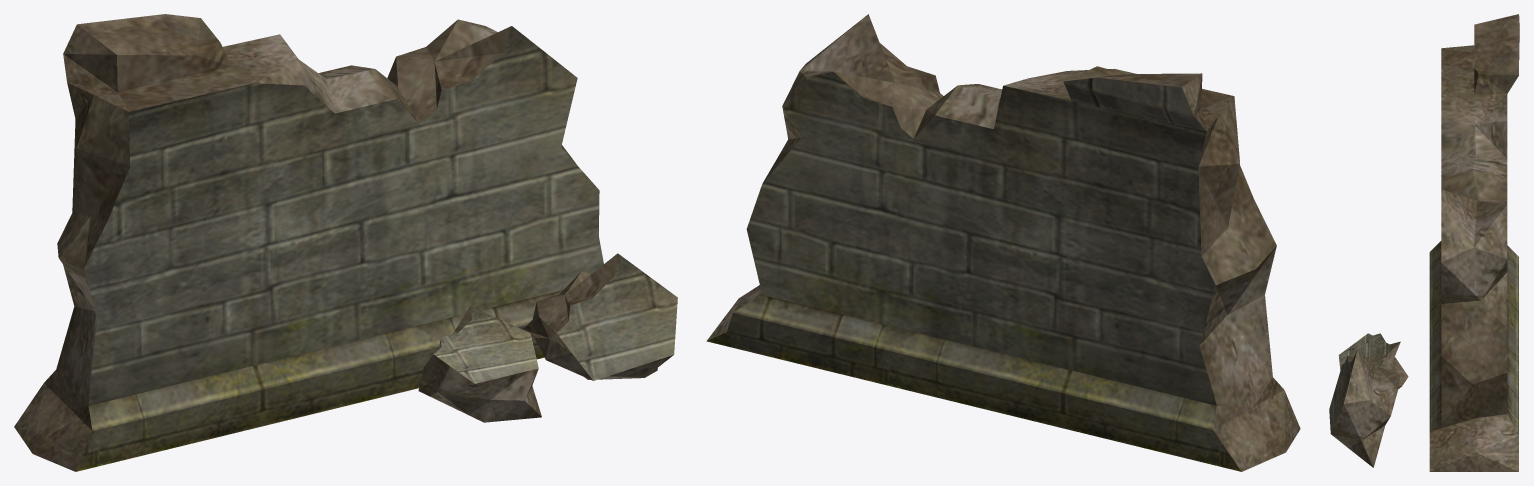
Rendered from zshh_poqiang_07.FBX.
3 views of the same model, side by side, from view 1: azimuth 30°, elevation 25°; view 2: azimuth 150°, elevation 25°; view 3: azimuth 270°, elevation 25° (orthographic). The views are drawn at different scales.
Parts seen in each view (by area): view 1: zshh_poqiang_07; view 2: zshh_poqiang_07; view 3: zshh_poqiang_07.
Boxes of the visible parts, <box> form: zshh_poqiang_07: <box>14,14,677,471</box>; zshh_poqiang_07: <box>706,14,1300,471</box>; zshh_poqiang_07: <box>1329,14,1519,471</box>.
Bounding box in the file's own units: 480 × 190 × 313.
